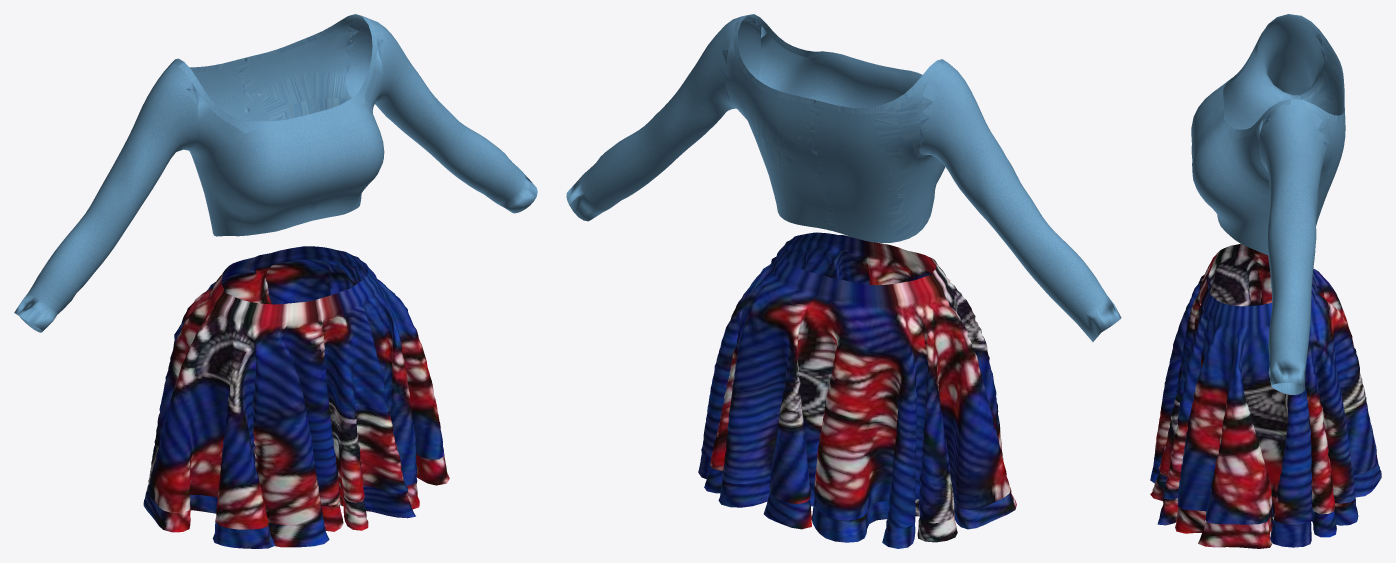
Rendered from crop_top_mini_skirt.glb.
The picture shows the model from 3 angles, left to right: view 1: azimuth 30°, elevation 25°; view 2: azimuth 150°, elevation 25°; view 3: azimuth 270°, elevation 25°; orthographic projection. The views are drawn at different scales.
Visible parts, largest first — view 1: all_two, all; view 2: all_two, all; view 3: all_two, all.
Boxes of the visible parts, x1,y1,x2,y2 form: all_two: [143, 246, 449, 548]; all: [14, 14, 537, 332]; all_two: [698, 232, 1016, 548]; all: [566, 14, 1121, 341]; all_two: [1150, 243, 1381, 548]; all: [1191, 14, 1345, 394].
Bounding box in the file's own units: 0.6963 × 0.5736 × 0.2763.
2 materials, 2 textured.
